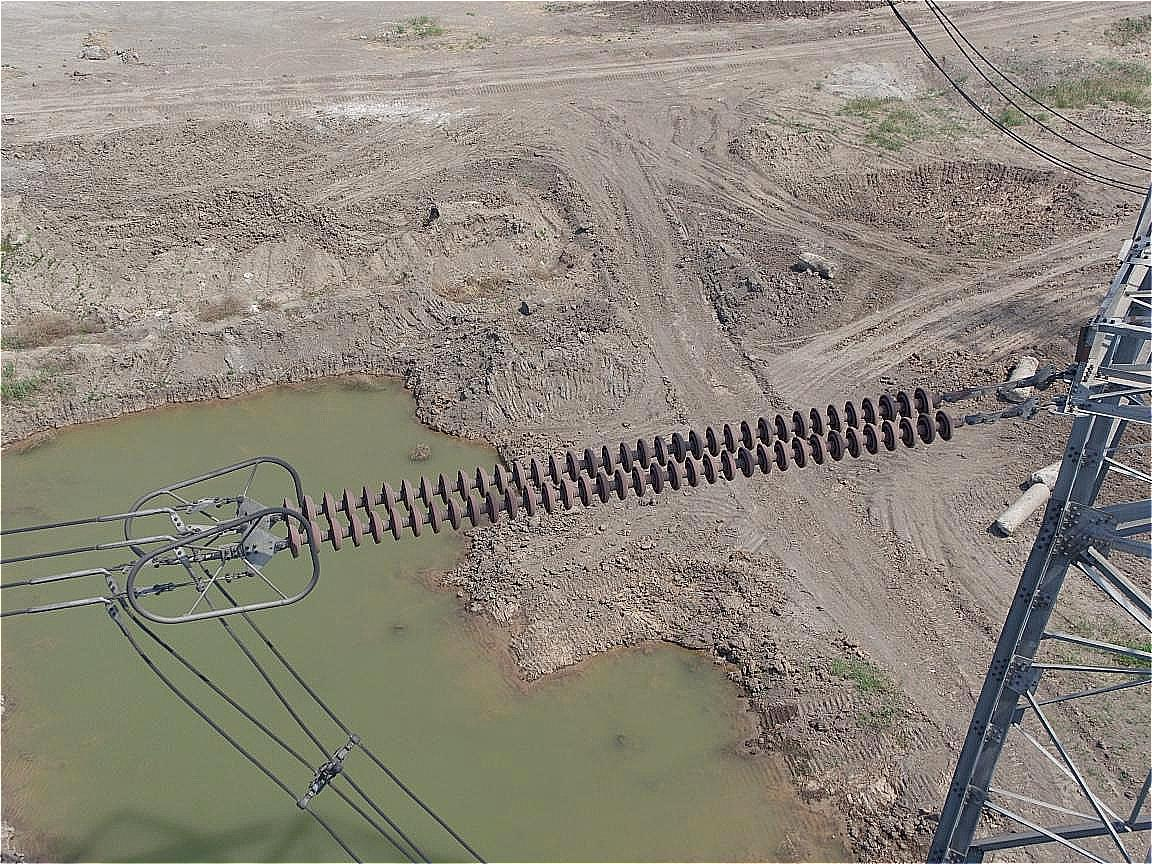insultor1: (282, 386, 954, 558)
